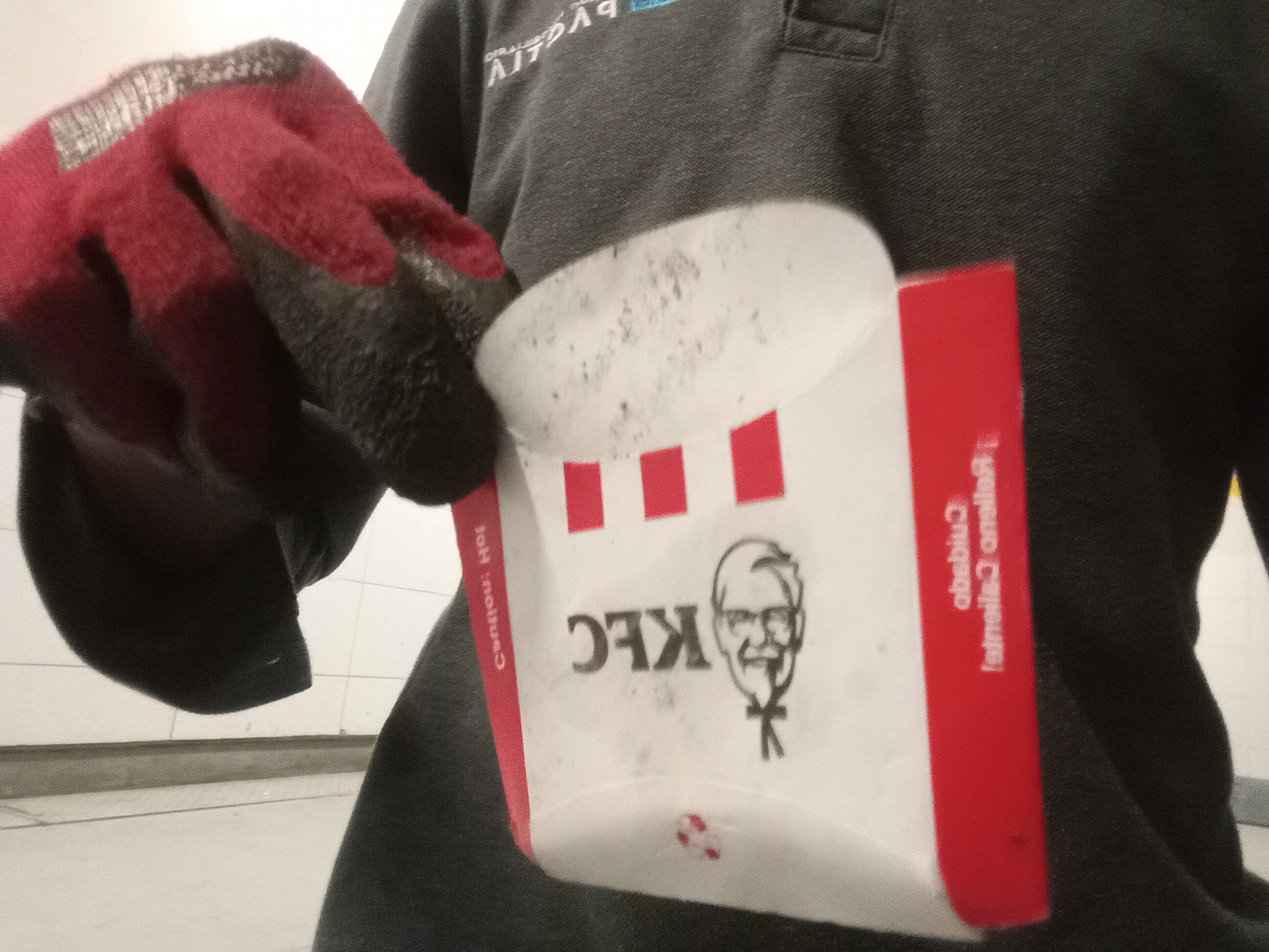Carton: (446, 195, 1041, 941)
